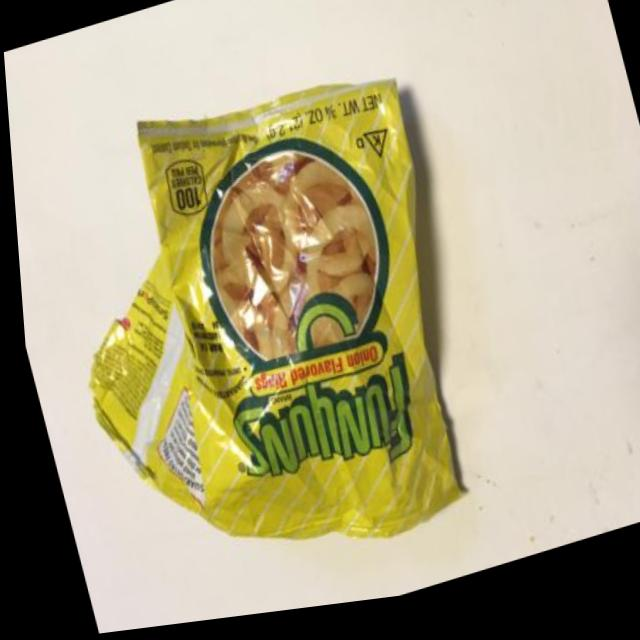trash: (25, 44, 497, 621)
